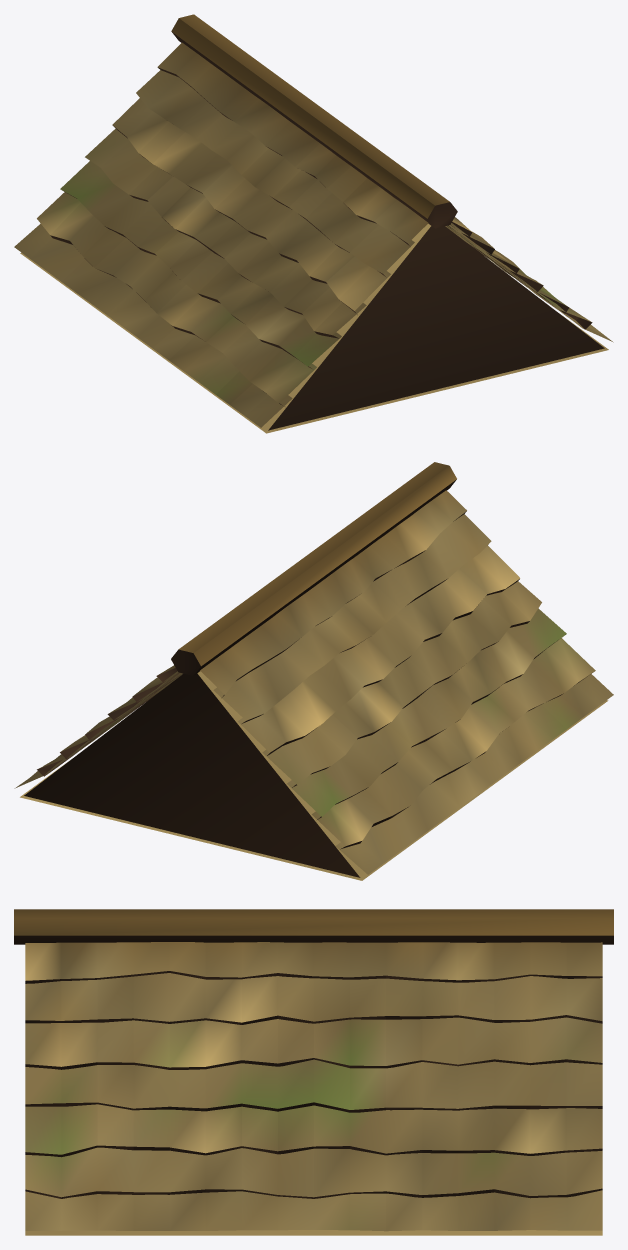
The model's file is roof_1.glb.
3 renders of one model, top to bottom at view 1: azimuth 30°, elevation 25°; view 2: azimuth 150°, elevation 25°; view 3: azimuth 270°, elevation 25°, orthographic. The views are drawn at different scales.
Parts seen in each view (by area): view 1: roof_1; view 2: roof_1; view 3: roof_1.
Boxes of the visible parts, x1,y1,x2,y2 form: roof_1: (14,14,613,433); roof_1: (14,462,613,880); roof_1: (14,909,613,1235).
Size of the model in its own units: 5.91 by 3.04 by 7.38.
